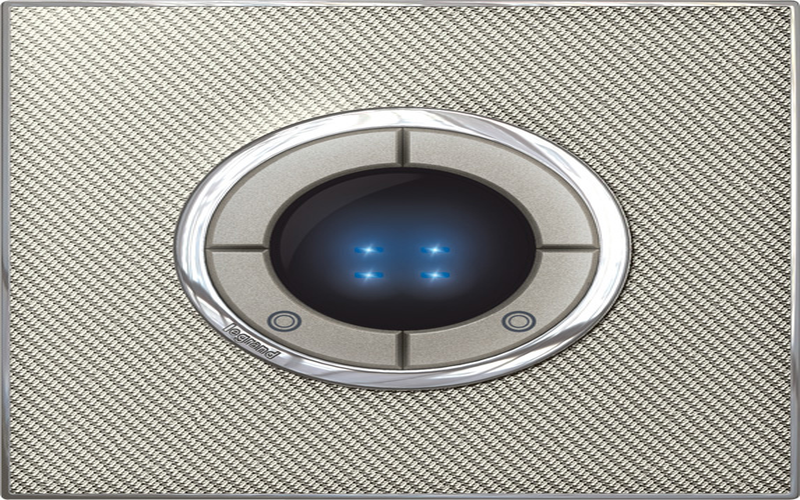Switches: (154, 72, 646, 392)
